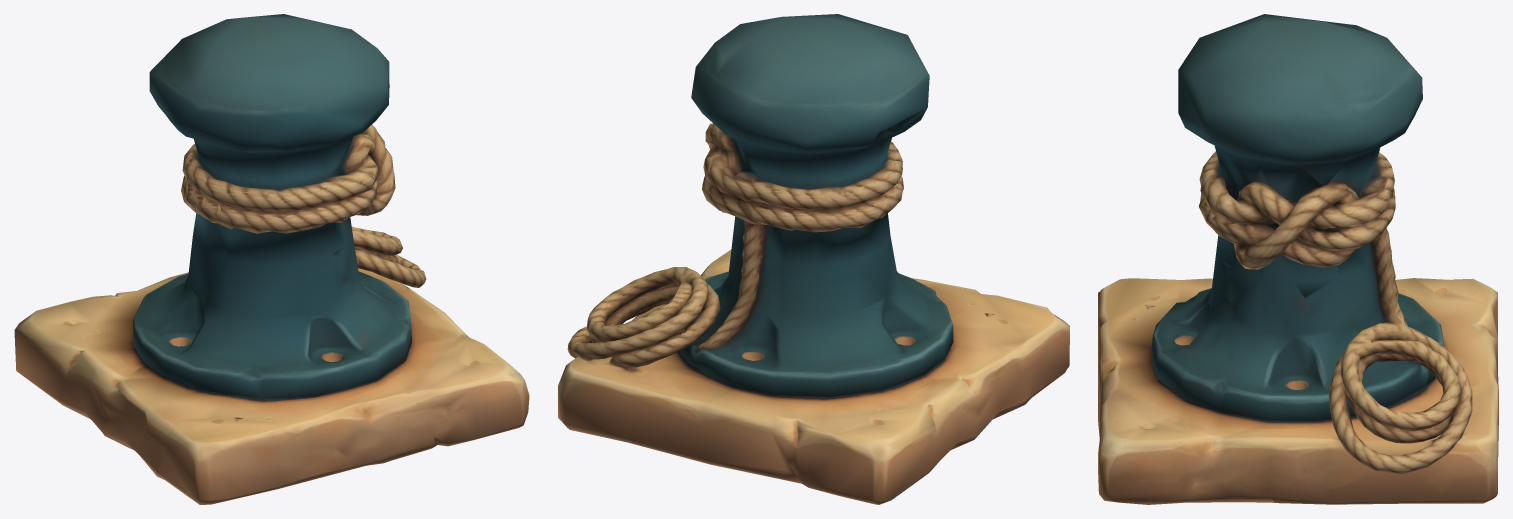
File: model_url.glb
3 renders of one model, left to right at view 1: azimuth 30°, elevation 25°; view 2: azimuth 150°, elevation 25°; view 3: azimuth 270°, elevation 25°, orthographic. The views are drawn at different scales.
Parts seen in each view (by area): view 1: tripo_node_d3d19bce-ee65-4d58-b118-224a9c841f19; view 2: tripo_node_d3d19bce-ee65-4d58-b118-224a9c841f19; view 3: tripo_node_d3d19bce-ee65-4d58-b118-224a9c841f19.
Part boxes in pixels (<box>): tripo_node_d3d19bce-ee65-4d58-b118-224a9c841f19: <box>14,14,529,504</box>; tripo_node_d3d19bce-ee65-4d58-b118-224a9c841f19: <box>558,14,1069,504</box>; tripo_node_d3d19bce-ee65-4d58-b118-224a9c841f19: <box>1098,14,1498,504</box>.
Size of the model in its own units: 1 by 0.9628 by 0.9198.
Materials: 1 (1 with a texture image).
